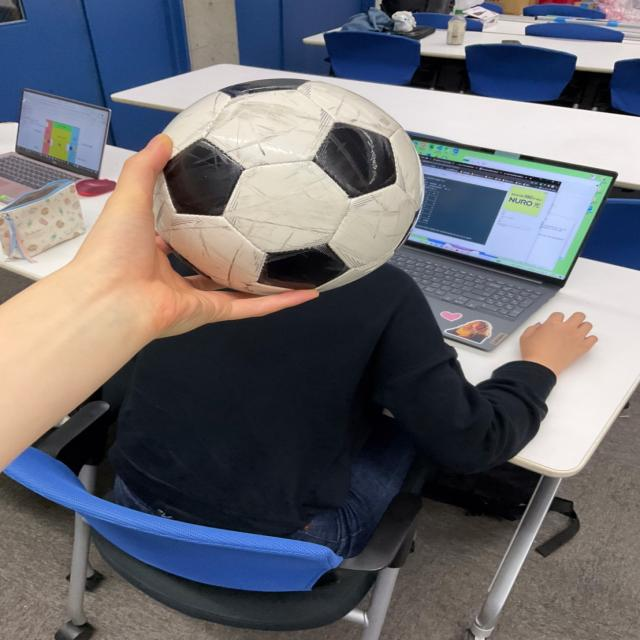ball: (178, 78, 419, 286)
